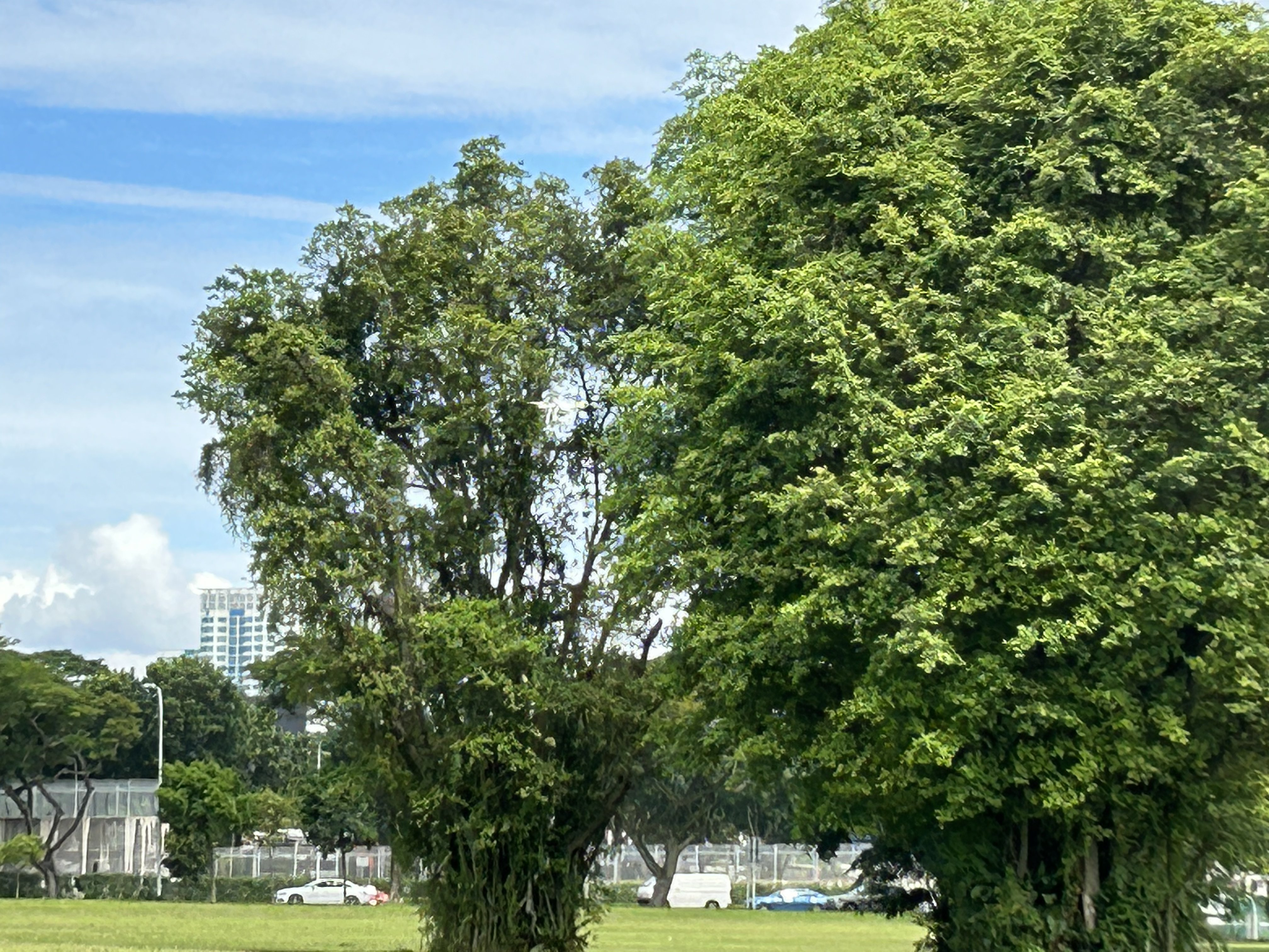drone_other: (527, 397, 585, 428)
